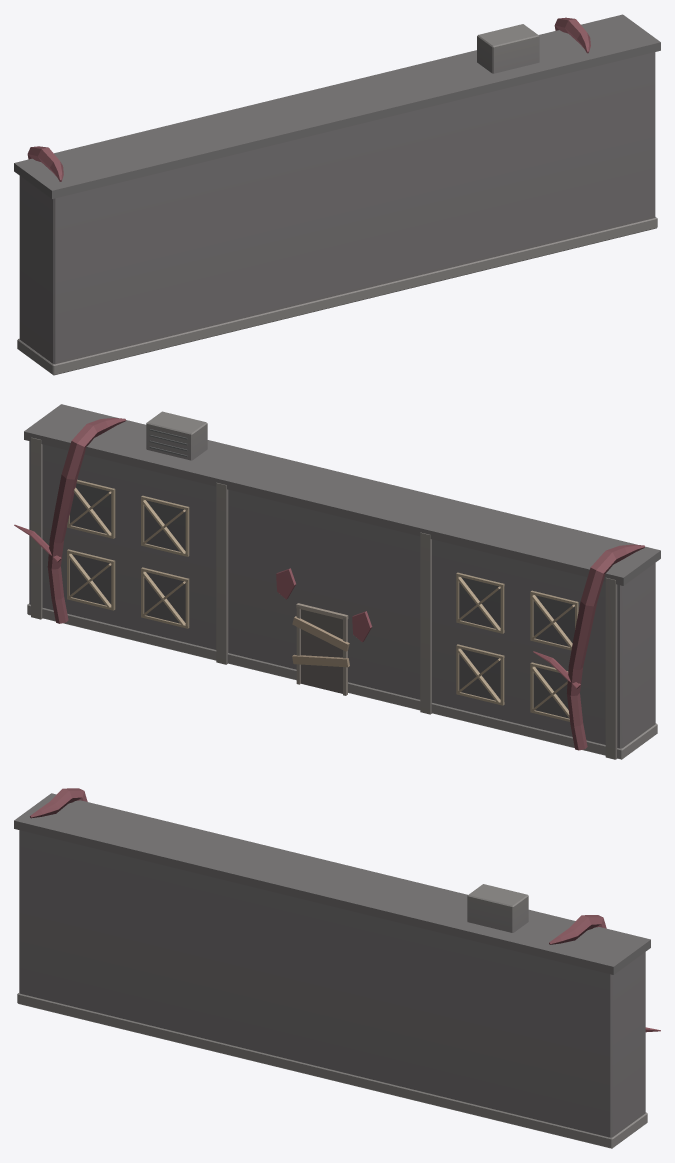
The model's file is PT_InfectedFacadeA.glb.
The picture shows the model from 3 angles, top to bottom: view 1: azimuth 30°, elevation 25°; view 2: azimuth 150°, elevation 25°; view 3: azimuth 330°, elevation 25°; orthographic projection.
Parts seen in each view (by area): view 1: Body; view 2: Body; view 3: Body.
Boxes of the visible parts, x1,y1,x2,y2 form: Body: (14,14,660,375); Body: (14,404,660,759); Body: (14,788,660,1148).
Size of the model in its own units: 65.36 by 21.7 by 8.56.
